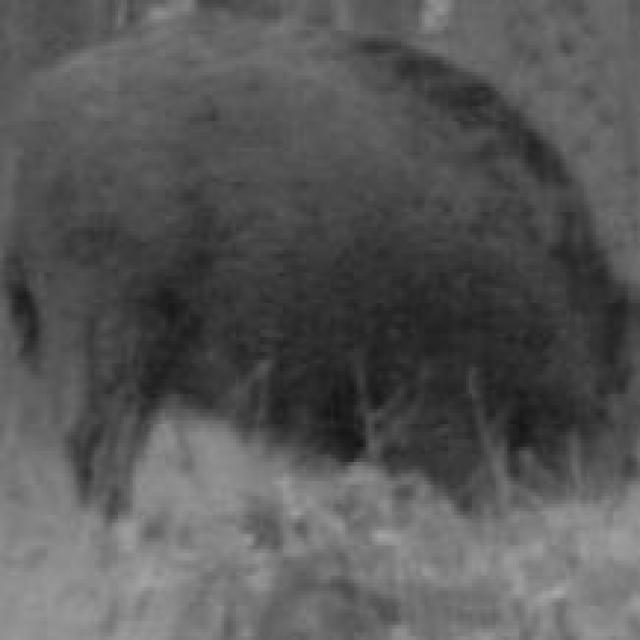pig: (27, 71, 640, 489)
